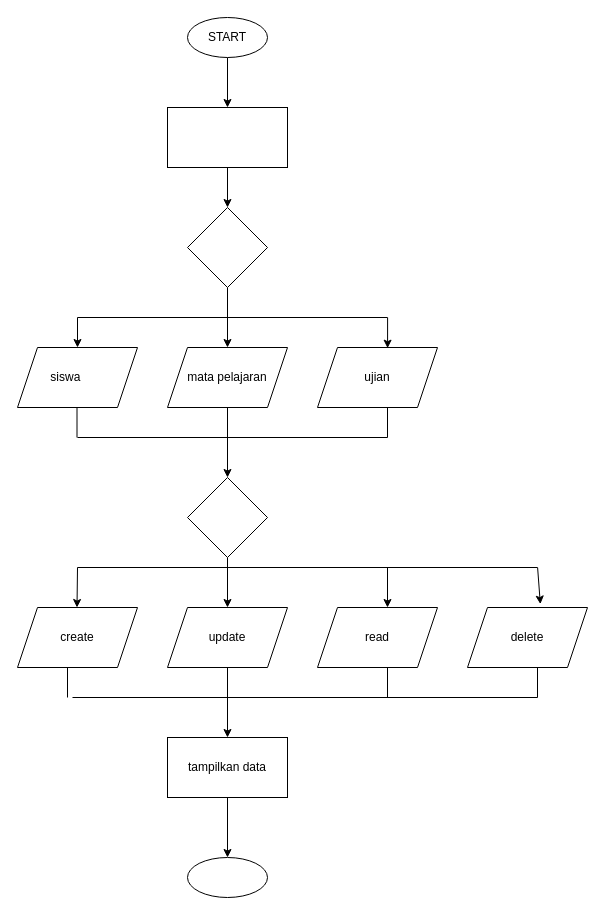
This 605x915 diagram has some shape labels left out. Here are the shapes that lost their labels. From the top down, the centre of each, then its label:
[227,137]: Dasboard
[227,247]: pilih data
[227,517]: pilih operasi
[227,877]: end
